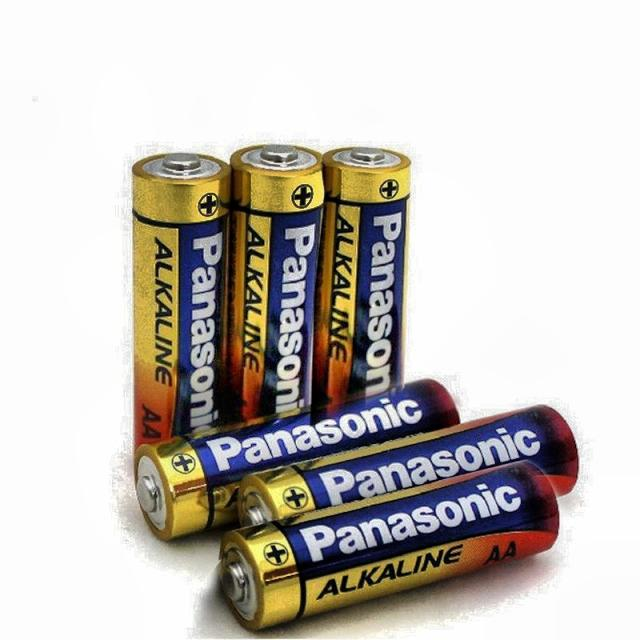Non-Valuable Waste - Batteries: (221, 461, 559, 629), (135, 380, 459, 539), (238, 405, 579, 526), (132, 152, 230, 447), (229, 144, 324, 419), (314, 148, 410, 405)
